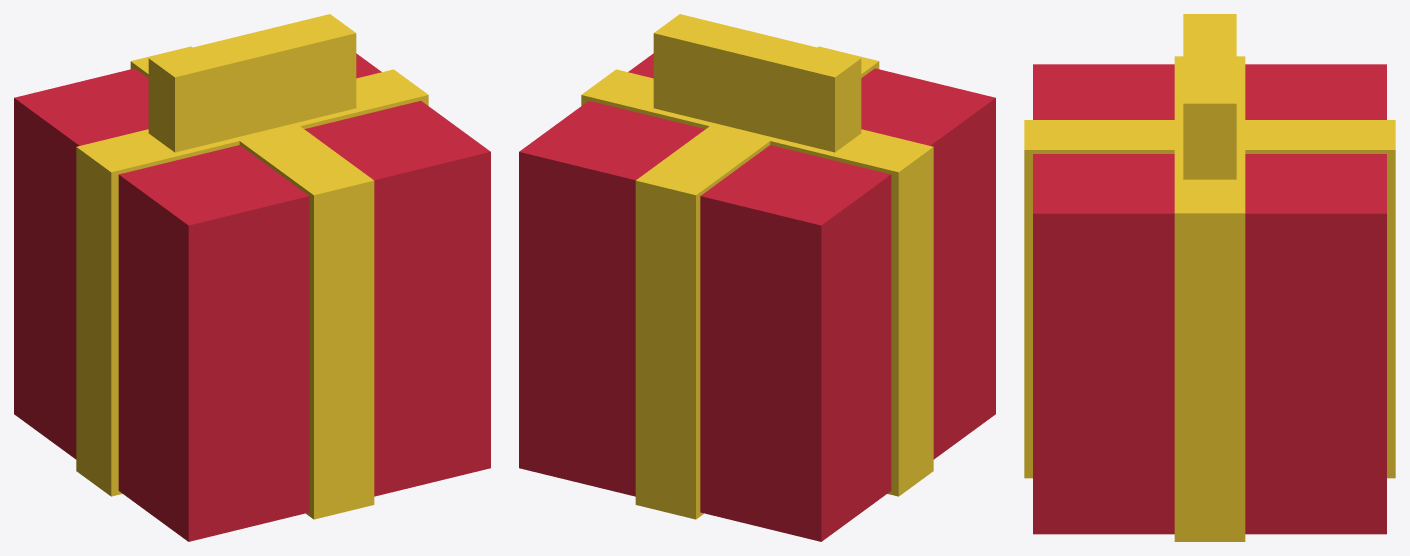
File: gift_box.glb
The picture shows the model from 3 angles, left to right: view 1: azimuth 30°, elevation 25°; view 2: azimuth 150°, elevation 25°; view 3: azimuth 270°, elevation 25°; orthographic projection.
Visible parts, largest first — view 1: _MeshInstance3D_2, _MeshInstance3D_4, _MeshInstance3D_3, _MeshInstance3D_5, _MeshInstance3D_6; view 2: _MeshInstance3D_2, _MeshInstance3D_4, _MeshInstance3D_3, _MeshInstance3D_5, _MeshInstance3D_6; view 3: _MeshInstance3D_2, _MeshInstance3D_3, _MeshInstance3D_4, _MeshInstance3D_6, _MeshInstance3D_5.
Part boxes in pixels (x1,y1,x2,y2): _MeshInstance3D_2: (14, 53, 490, 541); _MeshInstance3D_4: (130, 46, 374, 519); _MeshInstance3D_3: (76, 69, 428, 496); _MeshInstance3D_5: (148, 36, 265, 152); _MeshInstance3D_6: (239, 14, 356, 130); _MeshInstance3D_2: (519, 53, 995, 541); _MeshInstance3D_4: (635, 46, 879, 519); _MeshInstance3D_3: (581, 69, 933, 496); _MeshInstance3D_5: (744, 36, 861, 152); _MeshInstance3D_6: (653, 14, 770, 130); _MeshInstance3D_2: (1033, 64, 1386, 534); _MeshInstance3D_3: (1174, 56, 1245, 541); _MeshInstance3D_4: (1024, 120, 1395, 478); _MeshInstance3D_6: (1183, 59, 1236, 179); _MeshInstance3D_5: (1183, 14, 1236, 58).
Size of the model in its own units: 0.42 by 0.505 by 0.42.
